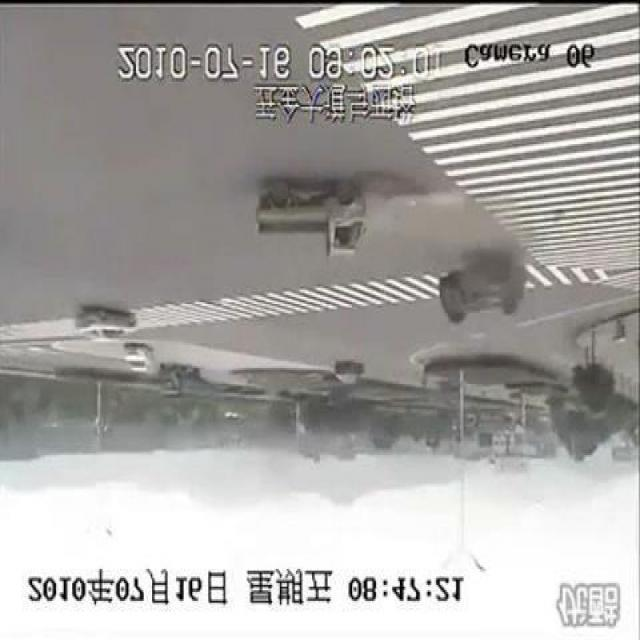person: (432, 218, 554, 338)
